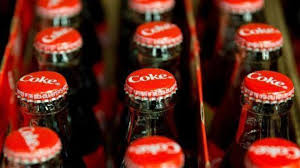coke-glass-bottle: (118, 64, 182, 133), (13, 67, 69, 131), (235, 67, 293, 109), (129, 18, 181, 55)
